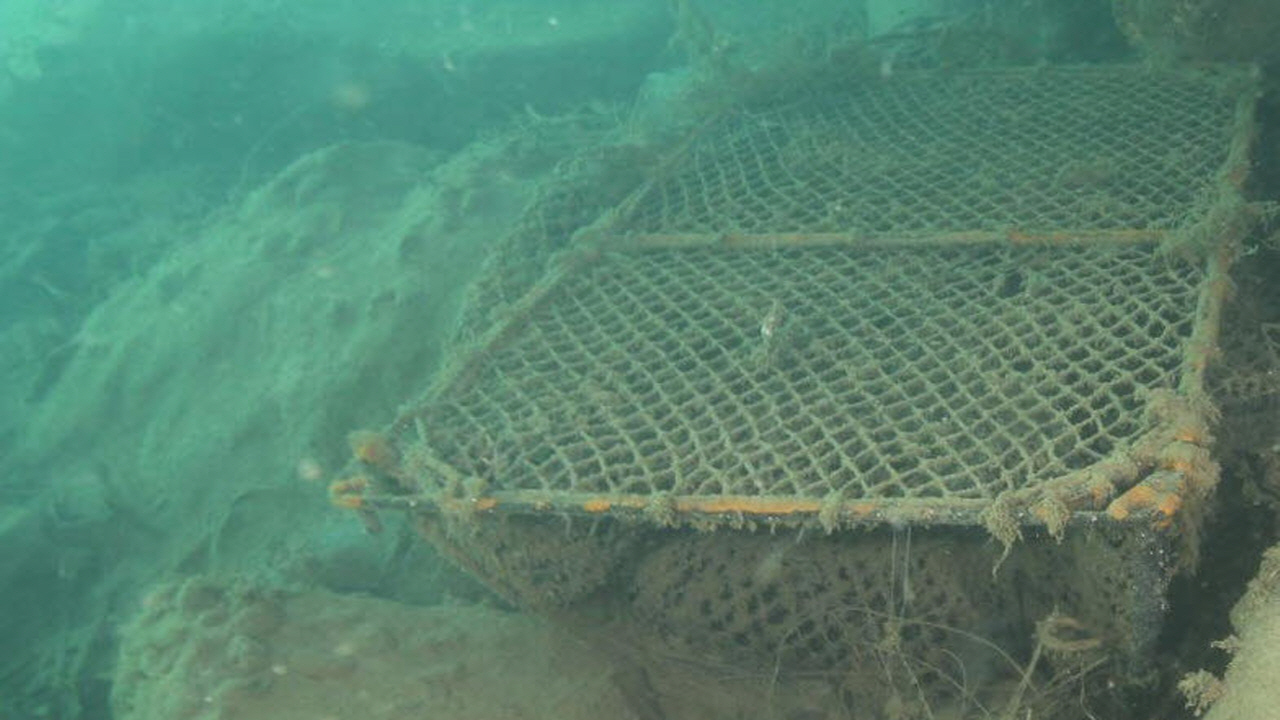rectangular fish trap: (325, 61, 1262, 672)
